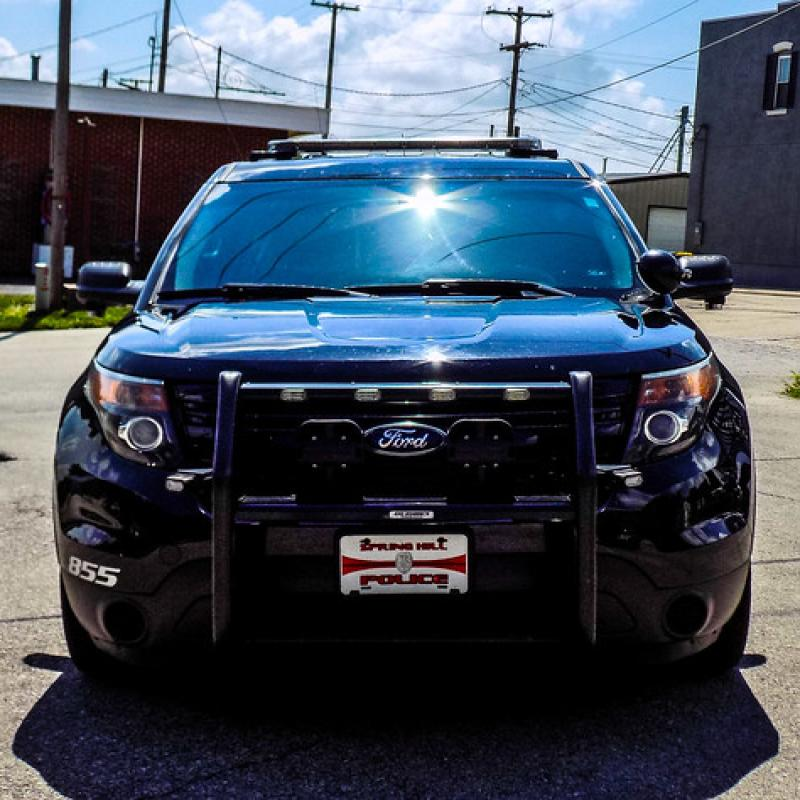AmbulanceSiren: (237, 108, 538, 169)
